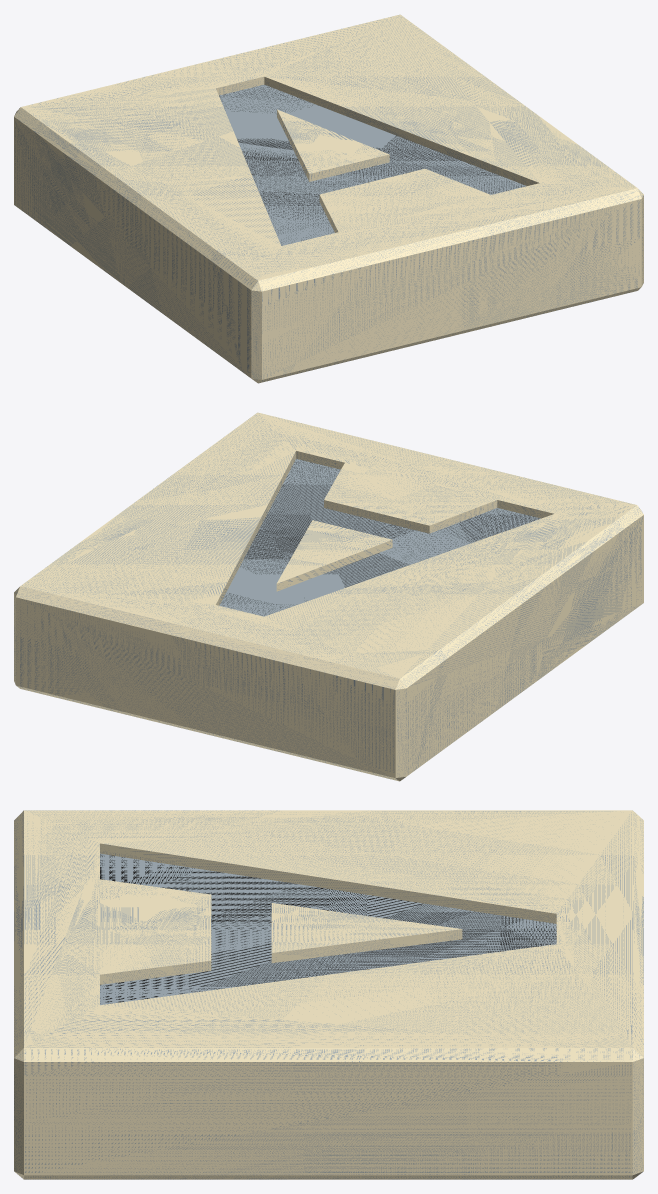
Rendered from Boardgame_Anagram_Tile_A.fbx.
3 renders of one model, top to bottom at view 1: azimuth 30°, elevation 25°; view 2: azimuth 150°, elevation 25°; view 3: azimuth 270°, elevation 25°, orthographic. The views are drawn at different scales.
Visible parts, largest first — view 1: Model; view 2: Model; view 3: Model.
Part boxes in pixels (x1,y1,x2,y2): Model: [14, 14, 643, 383]; Model: [14, 412, 643, 781]; Model: [14, 810, 643, 1179].
Bounding box in the file's own units: 195 × 48.83 × 212.
